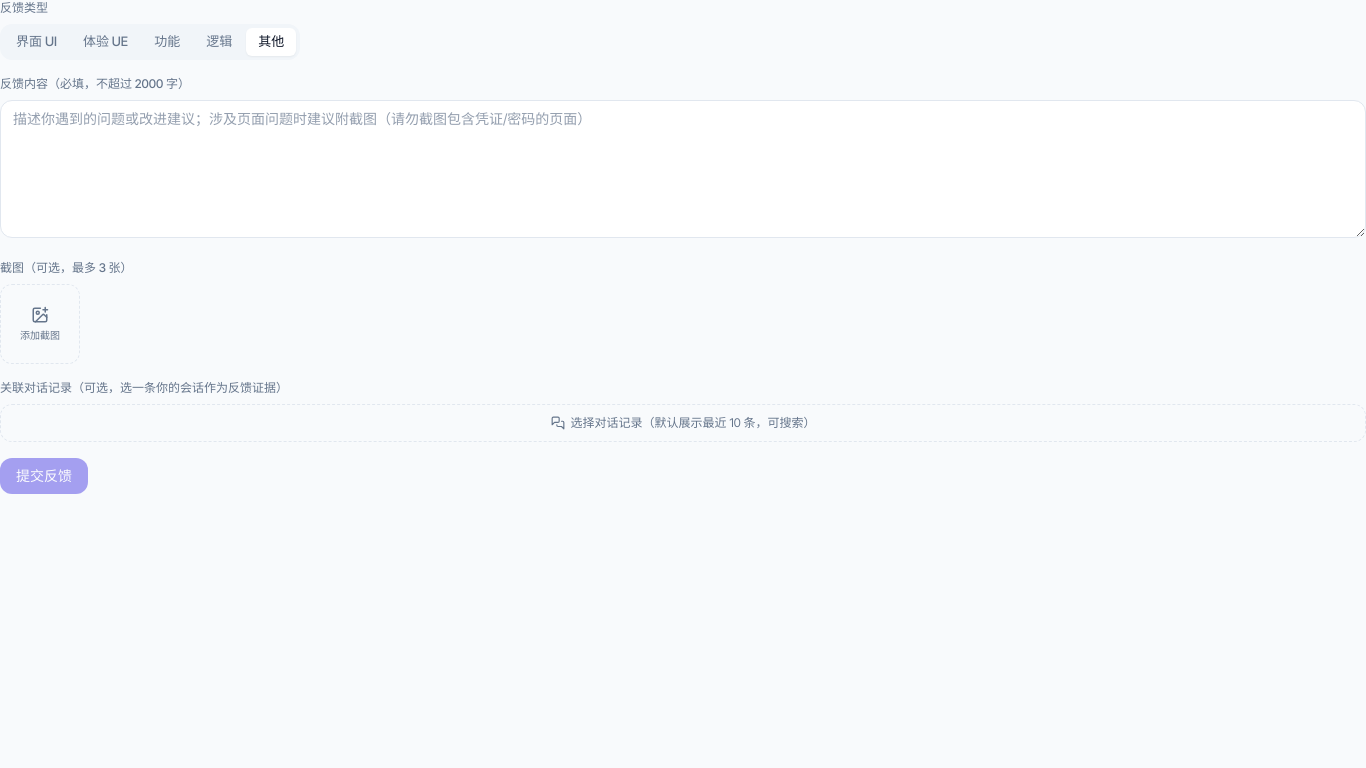
FeedbackForm（反馈页/对话内弹窗共用表单） › 无预填时展示选择入口，打开选择器可回填本人会话候选
Click the button "选择对话记录（默认展示最近 10 条，可搜索）" at (683, 423), box [0,404,1365,442]
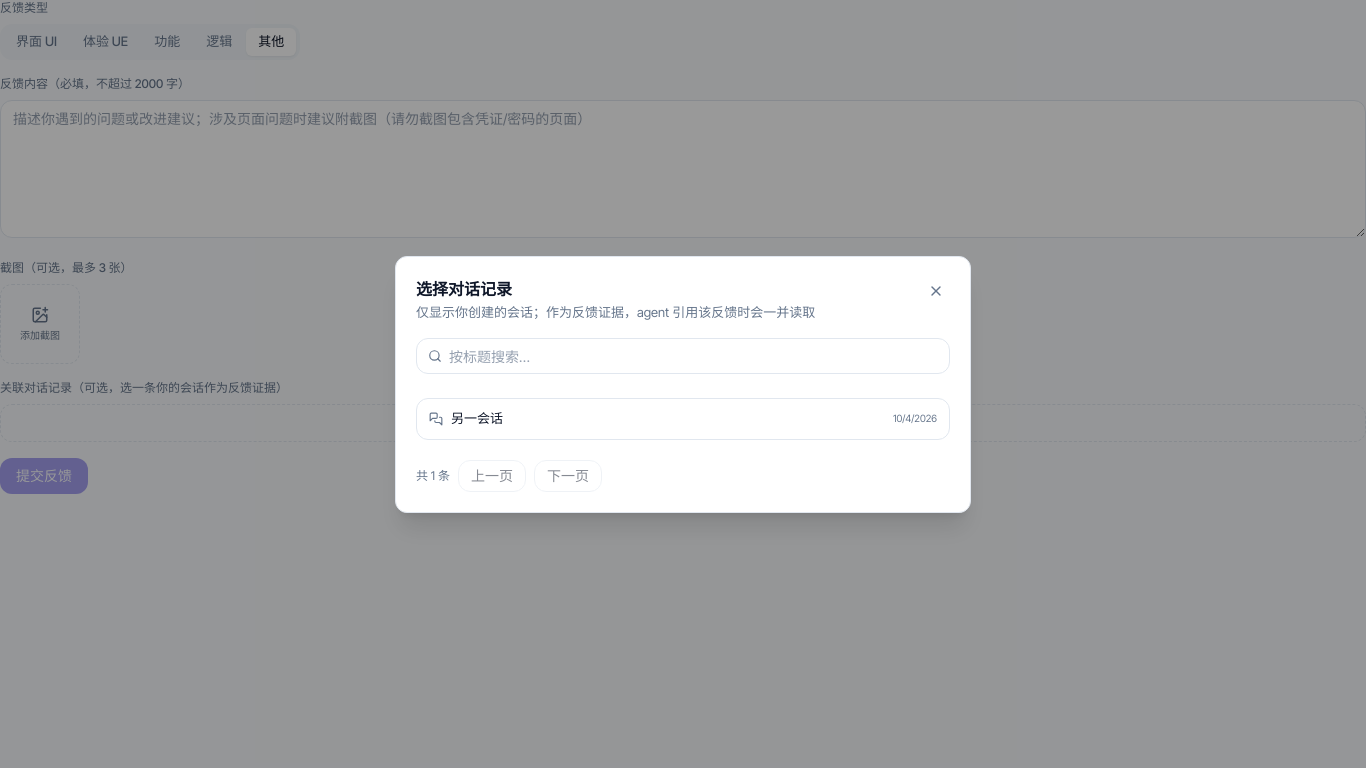
Click the button "另一会话 10/4/2026" at (477, 418), box [417,399,949,438]
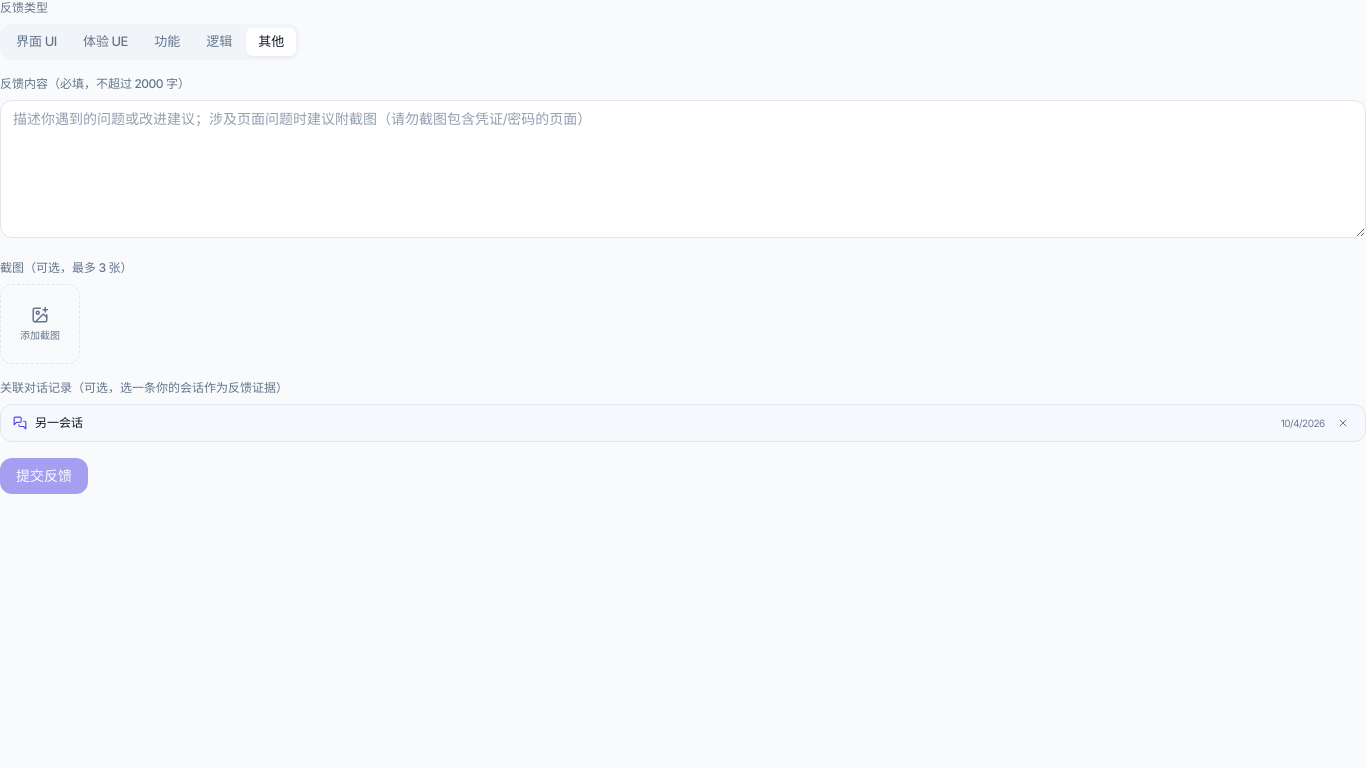
Expected: the text "另一会话" is shown, [35,415,83,430]
Expected: the button "选择对话记录" is gone
